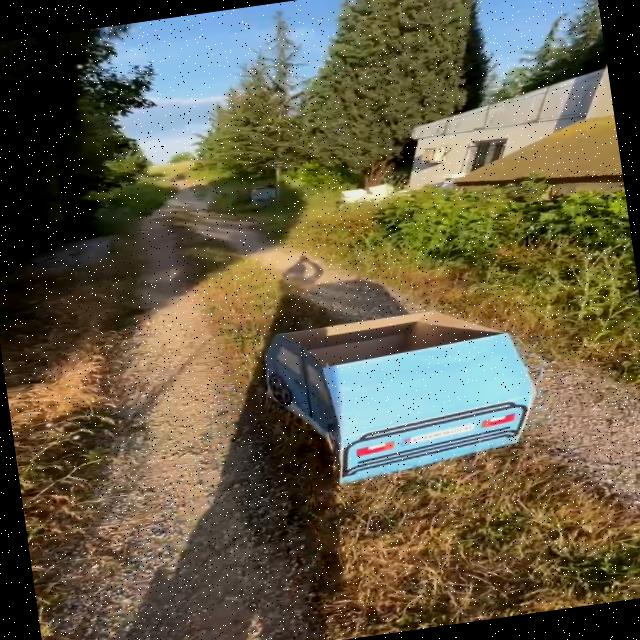blue_car: (209, 250, 582, 519)
